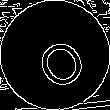O_NW: (23, 22, 87, 88)
